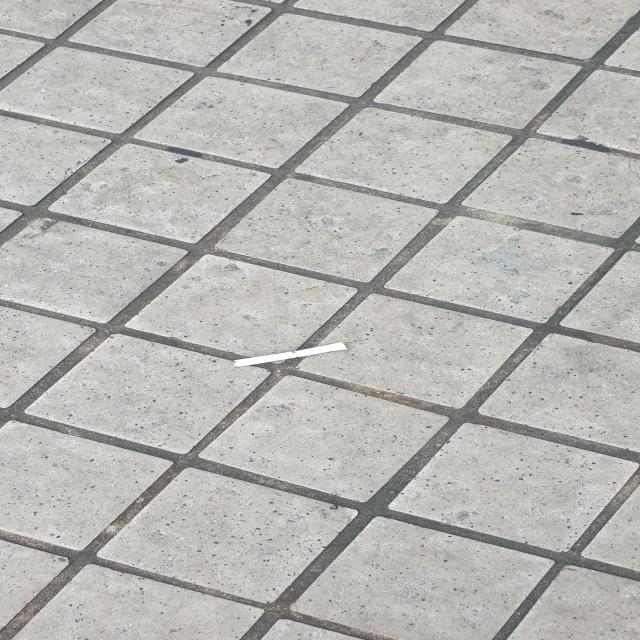litter: (229, 343, 352, 371)
